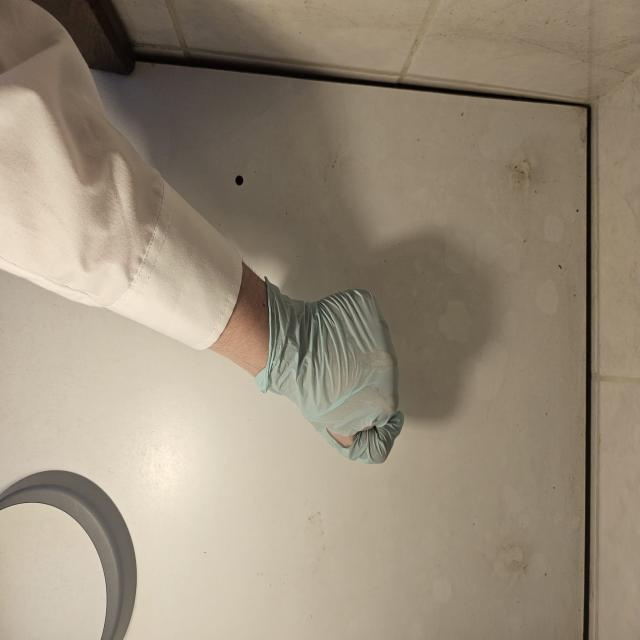gloves_damaged: (262, 274, 407, 473)
